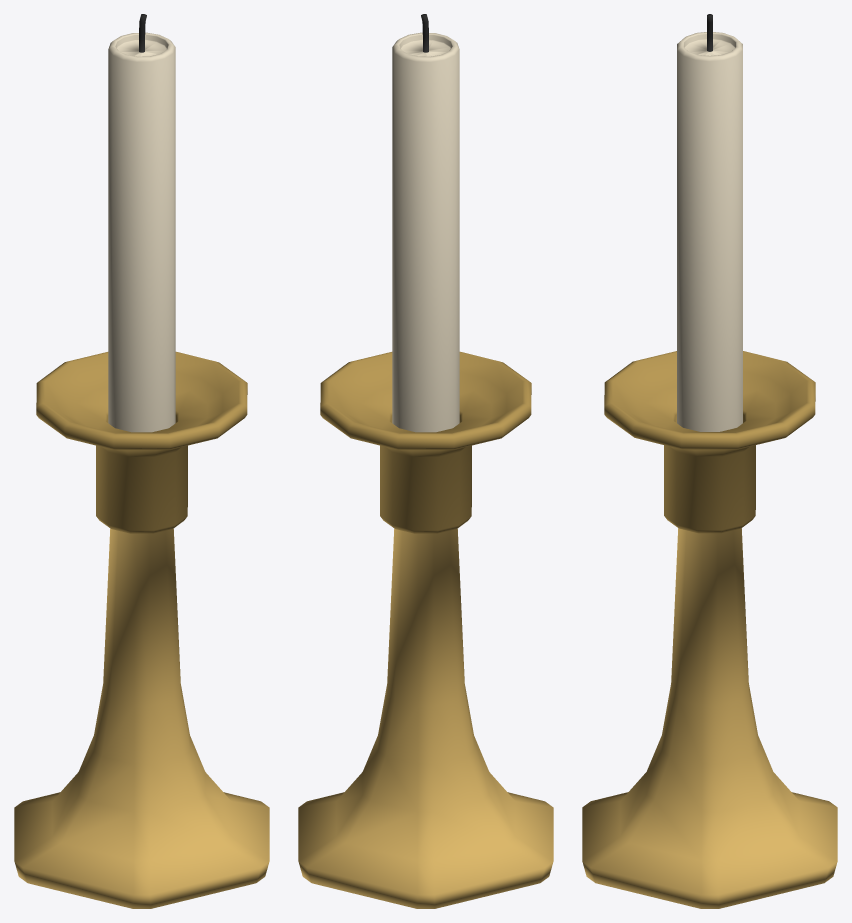
Rendered from MiscCandle.fbx.
The picture shows the model from 3 angles, left to right: view 1: azimuth 30°, elevation 25°; view 2: azimuth 150°, elevation 25°; view 3: azimuth 270°, elevation 25°; orthographic projection.
Visible parts, largest first — view 1: CandleUVd:polySurface122; view 2: CandleUVd:polySurface122; view 3: CandleUVd:polySurface122.
Boxes of the visible parts, box(x1,y1,x2,y2) form: CandleUVd:polySurface122: box(14, 14, 269, 908); CandleUVd:polySurface122: box(298, 14, 553, 908); CandleUVd:polySurface122: box(582, 14, 837, 908).
Bounding box in the file's own units: 9.57 × 31 × 8.57.
